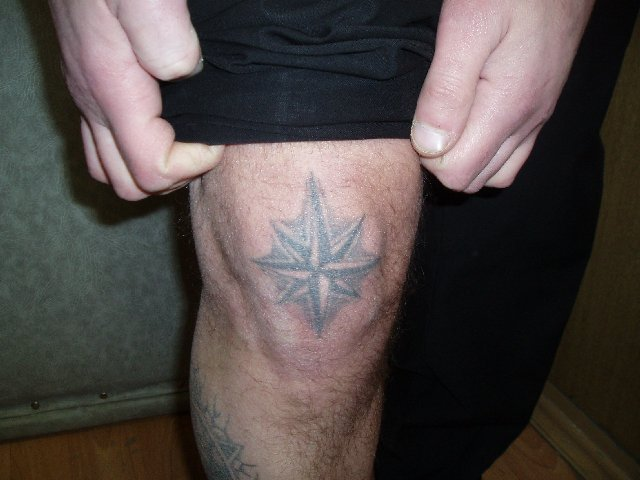tatu4_zvezda: (245, 171, 395, 340)
